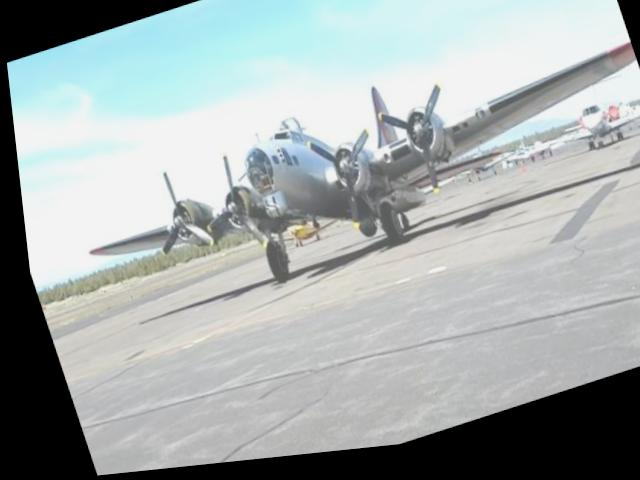iha: (61, 19, 640, 323)
